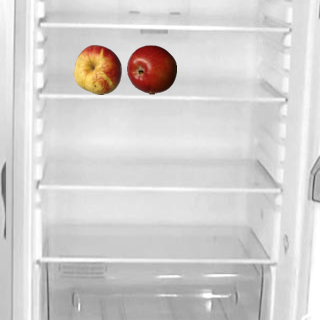Apple Braeburn: (126, 44, 176, 94)
Apple Red Yellow 1: (72, 44, 122, 94)
